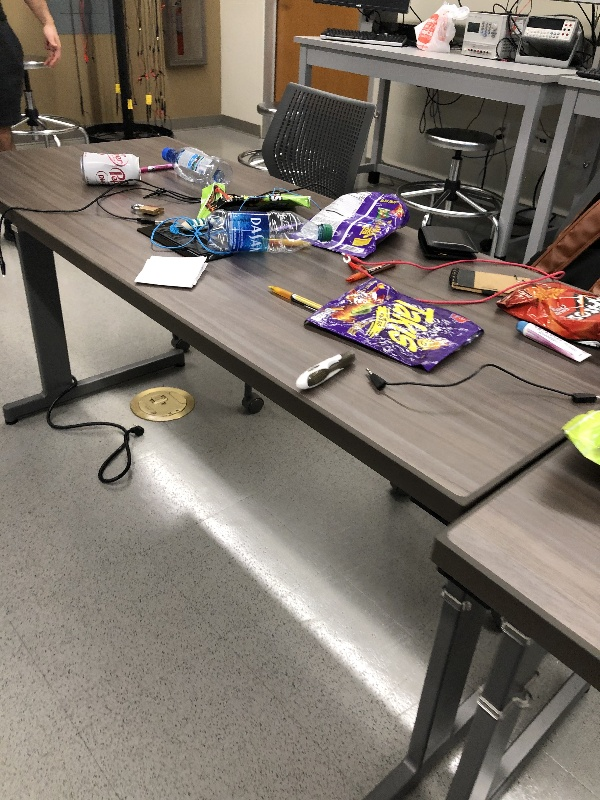bag: (302, 274, 486, 378), (296, 179, 414, 260), (490, 277, 600, 353), (192, 176, 316, 223), (558, 403, 600, 481)
bottle: (206, 211, 338, 249), (159, 142, 232, 192)
can: (73, 146, 143, 192)
